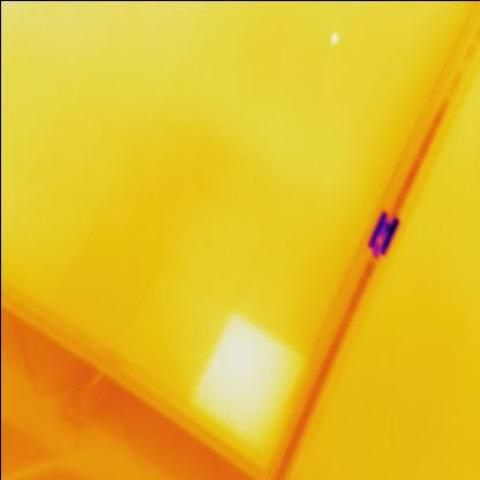fault: (197, 309, 302, 444), (326, 31, 342, 49)
